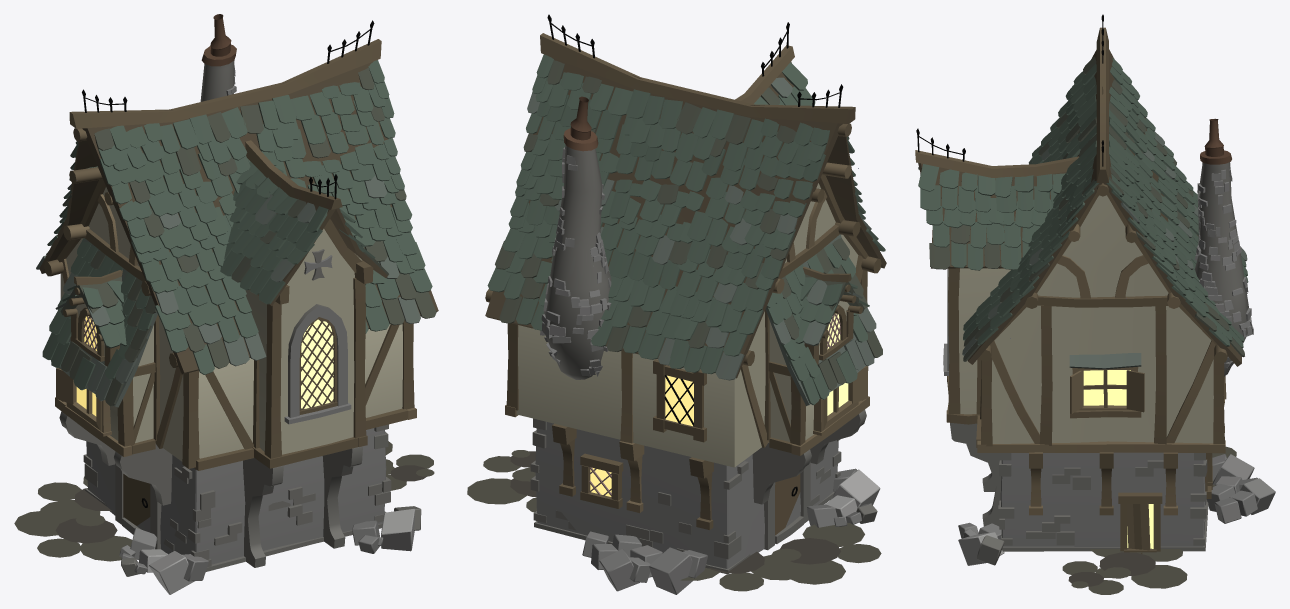
The picture shows the model from 3 angles, left to right: view 1: azimuth 30°, elevation 25°; view 2: azimuth 150°, elevation 25°; view 3: azimuth 270°, elevation 25°; orthographic projection. The views are drawn at different scales.
Visible parts, largest first — view 1: polySurface141; view 2: polySurface141; view 3: polySurface141.
Boxes of the visible parts, x1=… form: polySurface141: x1=14, y1=14, x2=438, y2=594; polySurface141: x1=467, y1=14, x2=886, y2=594; polySurface141: x1=915, y1=14, x2=1275, y2=594.
Bounding box in the file's own units: 14.5 × 16.79 × 12.53.
